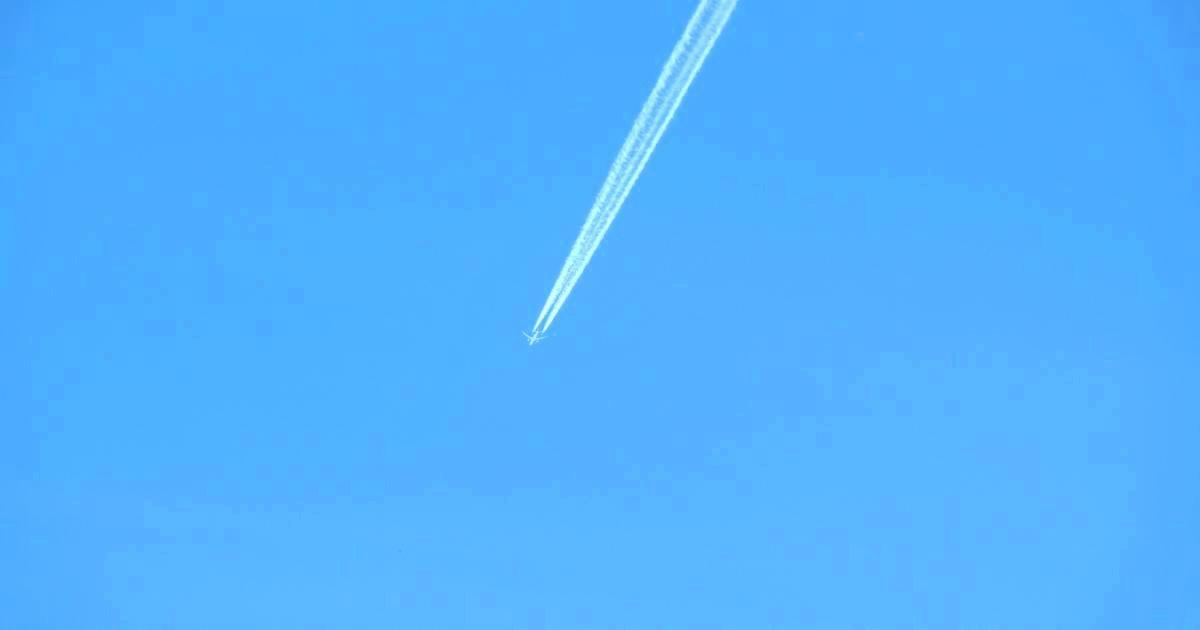Plane: (453, 0, 747, 405)
